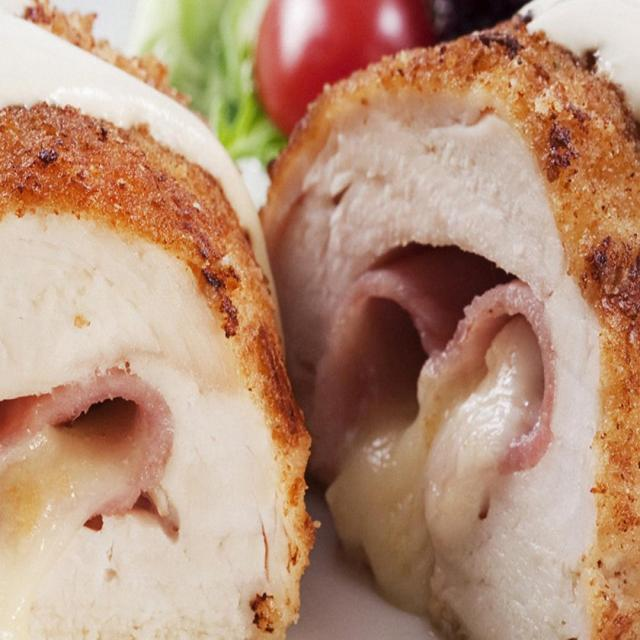pollo: (249, 11, 637, 638)
